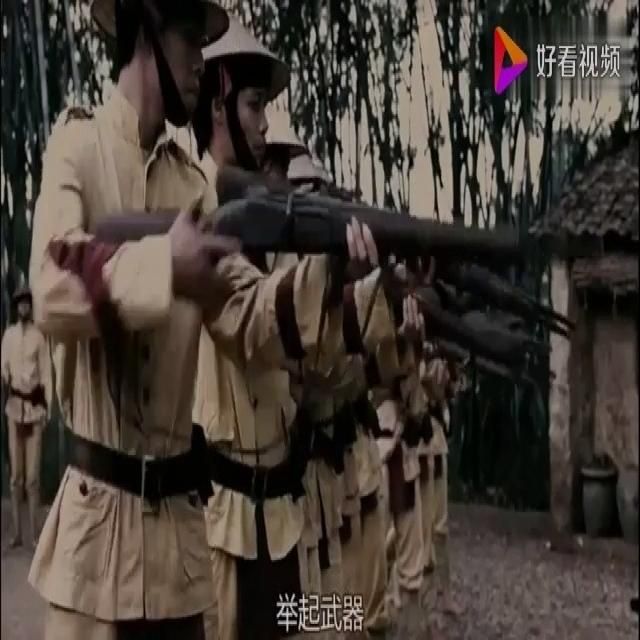non-fight: (0, 280, 55, 554)
